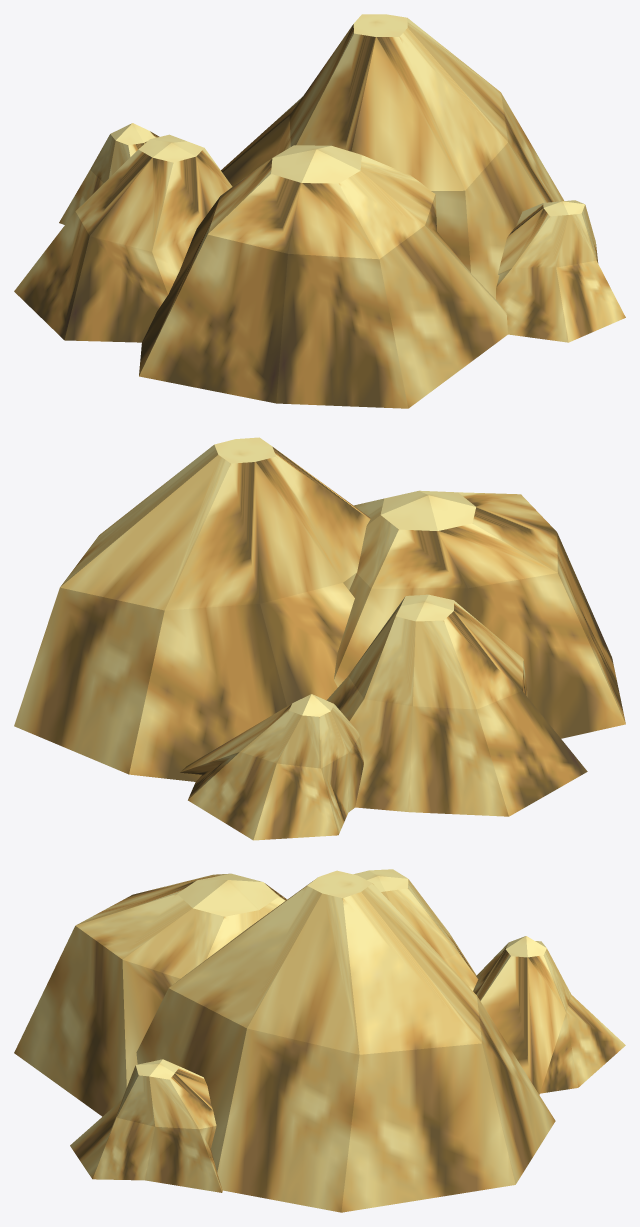
Rendered from Poly_World_Map_Mountain_Sand_03.obj.
3 views of the same model, one above another, from view 1: azimuth 30°, elevation 25°; view 2: azimuth 150°, elevation 25°; view 3: azimuth 270°, elevation 25° (orthographic). The views are drawn at different scales.
Visible parts, largest first — view 1: Cube.001_Cube.002, Cube.002_Cube.003, Cube_Cube.001, Cube.003_Cube.004, Cube.004_Cube.005; view 2: Cube.002_Cube.003, Cube_Cube.001, Cube.001_Cube.002, Cube.004_Cube.005; view 3: Cube.002_Cube.003, Cube.001_Cube.002, Cube.003_Cube.004, Cube.004_Cube.005, Cube_Cube.001.
Part boxes in pixels (left/top/right/bottom): Cube.001_Cube.002: left=139, top=145, right=507, bottom=408; Cube.002_Cube.003: left=221, top=14, right=563, bottom=299; Cube_Cube.001: left=14, top=134, right=232, bottom=342; Cube.003_Cube.004: left=496, top=200, right=625, bottom=342; Cube.004_Cube.005: left=59, top=123, right=159, bottom=224; Cube.002_Cube.003: left=14, top=437, right=370, bottom=781; Cube_Cube.001: left=326, top=594, right=587, bottom=816; Cube.001_Cube.002: left=334, top=490, right=625, bottom=738; Cube.004_Cube.005: left=180, top=694, right=363, bottom=840; Cube.002_Cube.003: left=136, top=870, right=555, bottom=1212; Cube.001_Cube.002: left=14, top=873, right=286, bottom=1116; Cube.003_Cube.004: left=70, top=1059, right=222, bottom=1192; Cube.004_Cube.005: left=473, top=936, right=625, bottom=1094; Cube_Cube.001: left=353, top=869, right=478, bottom=990.
Size of the model in its own units: 1.61 by 0.7011 by 1.65.
Materials: 1 (1 with a texture image).
